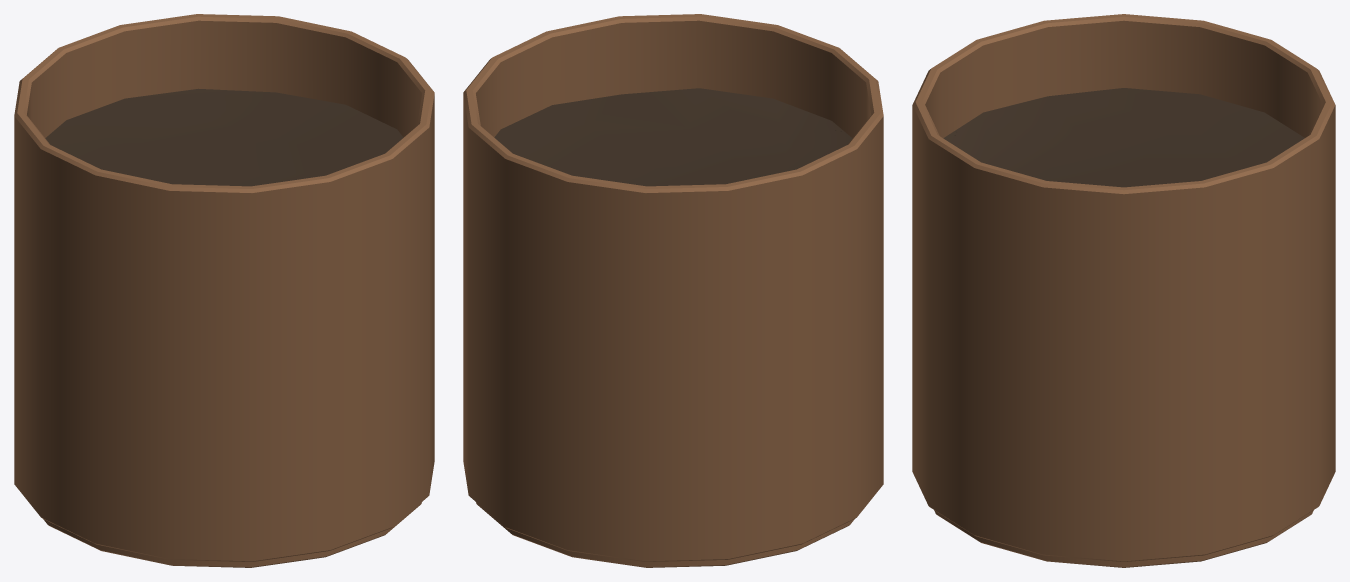
Rendered from BrownPotS.glb.
The picture shows the model from 3 angles, left to right: view 1: azimuth 30°, elevation 25°; view 2: azimuth 150°, elevation 25°; view 3: azimuth 270°, elevation 25°; orthographic projection.
Parts seen in each view (by area): view 1: Dark Gray Pot S.001; view 2: Dark Gray Pot S.001; view 3: Dark Gray Pot S.001.
Boxes of the visible parts, x1,y1,x2,y2 form: Dark Gray Pot S.001: (14, 14, 434, 567); Dark Gray Pot S.001: (463, 14, 883, 567); Dark Gray Pot S.001: (912, 14, 1335, 567).
Bounding box in the file's own units: 0.1571 × 0.1559 × 0.1571.
1 material, 1 textured.
